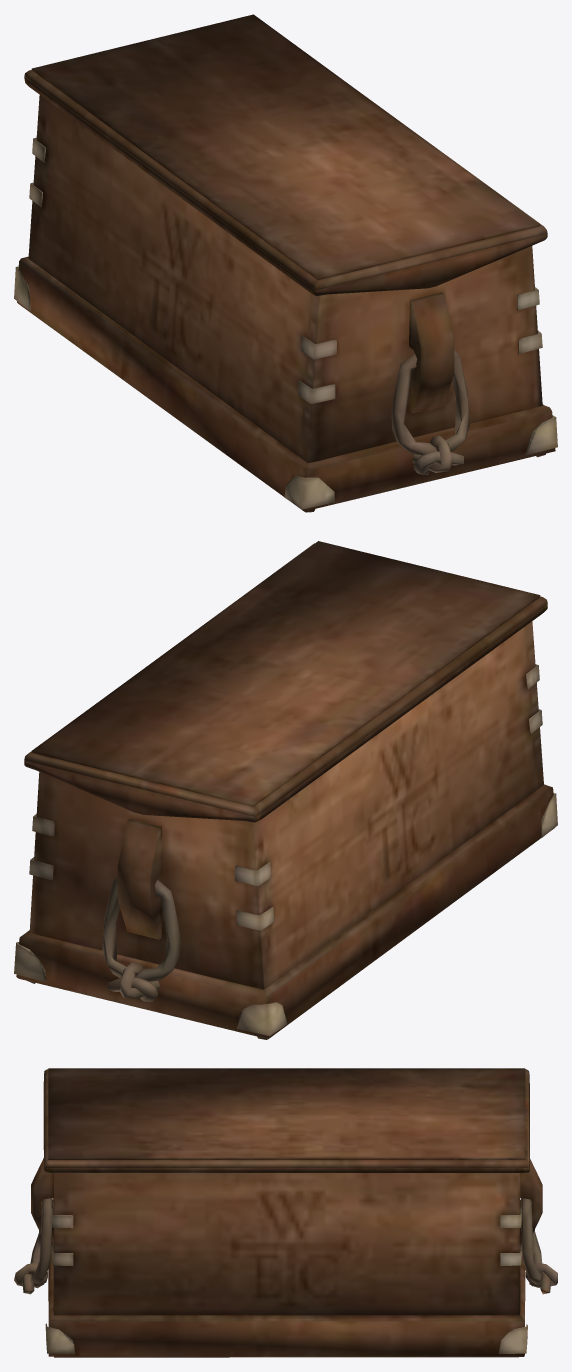
Rendered from crateWood_lo.glb.
3 renders of one model, top to bottom at view 1: azimuth 30°, elevation 25°; view 2: azimuth 150°, elevation 25°; view 3: azimuth 270°, elevation 25°, orthographic. The views are drawn at different scales.
Parts seen in each view (by area): view 1: wooden_crate_02_crate, wooden_crate_02_lid; view 2: wooden_crate_02_crate, wooden_crate_02_lid; view 3: wooden_crate_02_crate, wooden_crate_02_lid.
Boxes of the visible parts, box(x1,y1,x2,y2) form: wooden_crate_02_crate: box(14, 95, 557, 512); wooden_crate_02_lid: box(24, 14, 547, 296); wooden_crate_02_crate: box(14, 621, 557, 1039); wooden_crate_02_lid: box(24, 541, 547, 822); wooden_crate_02_crate: box(14, 1158, 557, 1357); wooden_crate_02_lid: box(43, 1068, 529, 1173).
Size of the model in its own units: 0.5291 by 0.4628 by 1.16.
Materials: 1 (1 with a texture image).
